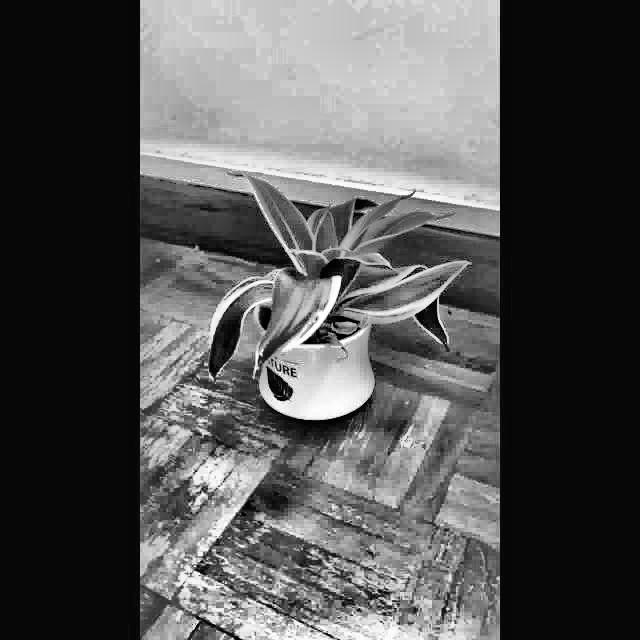plants: (198, 158, 470, 434)
